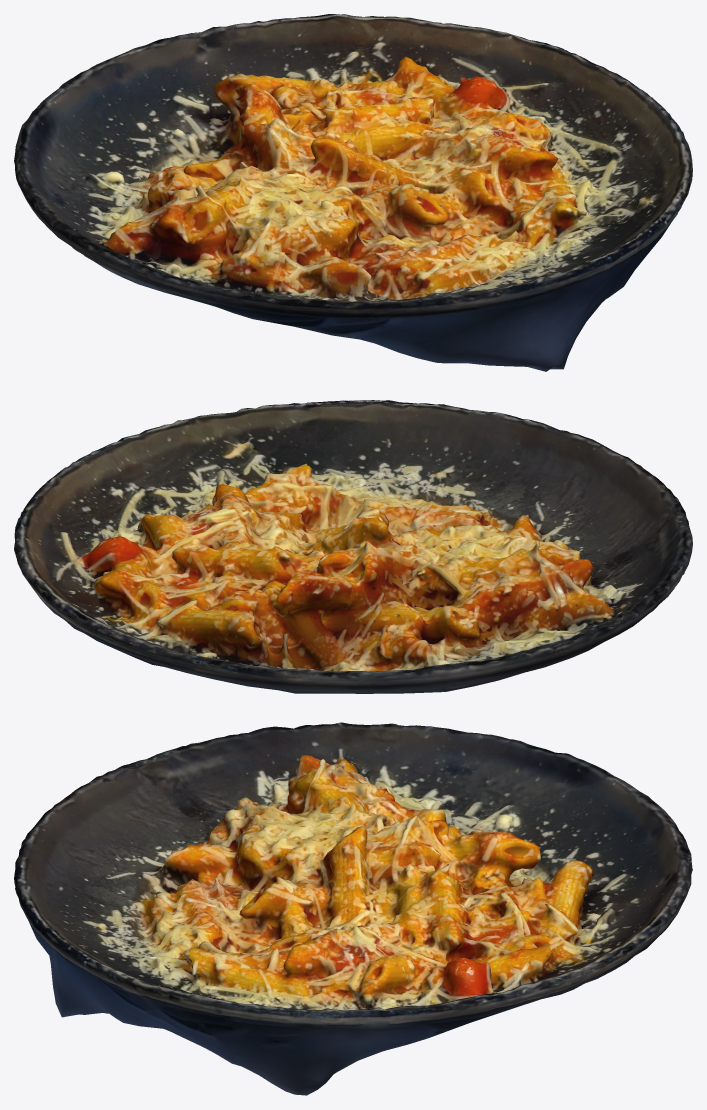
Rendered from Rose Pasta.glb.
3 renders of one model, top to bottom at view 1: azimuth 30°, elevation 25°; view 2: azimuth 150°, elevation 25°; view 3: azimuth 270°, elevation 25°, orthographic.
Visible parts, largest first — view 1: ObjectCapture; view 2: ObjectCapture; view 3: ObjectCapture.
Boxes of the visible parts, box(x1,y1,x2,y2) form: ObjectCapture: box(14, 14, 692, 371); ObjectCapture: box(14, 400, 692, 693); ObjectCapture: box(14, 722, 692, 1095).
Bounding box in the file's own units: 0.2645 × 0.064 × 0.2653.
1 material, 1 textured.
